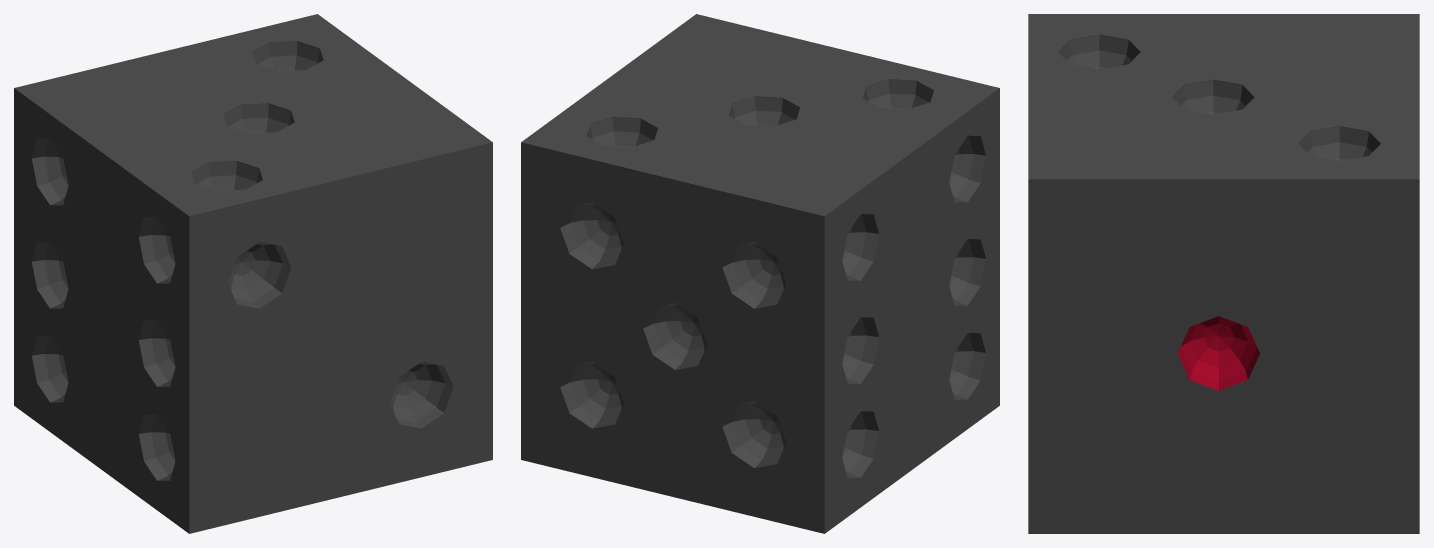
The model's file is dice.fbx.
3 renders of one model, left to right at view 1: azimuth 30°, elevation 25°; view 2: azimuth 150°, elevation 25°; view 3: azimuth 270°, elevation 25°, orthographic. The views are drawn at different scales.
Visible parts, largest first — view 1: pCube612; view 2: pCube612; view 3: pCube612.
Boxes of the visible parts, box(x1,y1,x2,y2) form: pCube612: box(14, 14, 492, 533); pCube612: box(521, 14, 999, 533); pCube612: box(1028, 14, 1419, 533).
Bounding box in the file's own units: 10.79 × 10.79 × 10.79.
